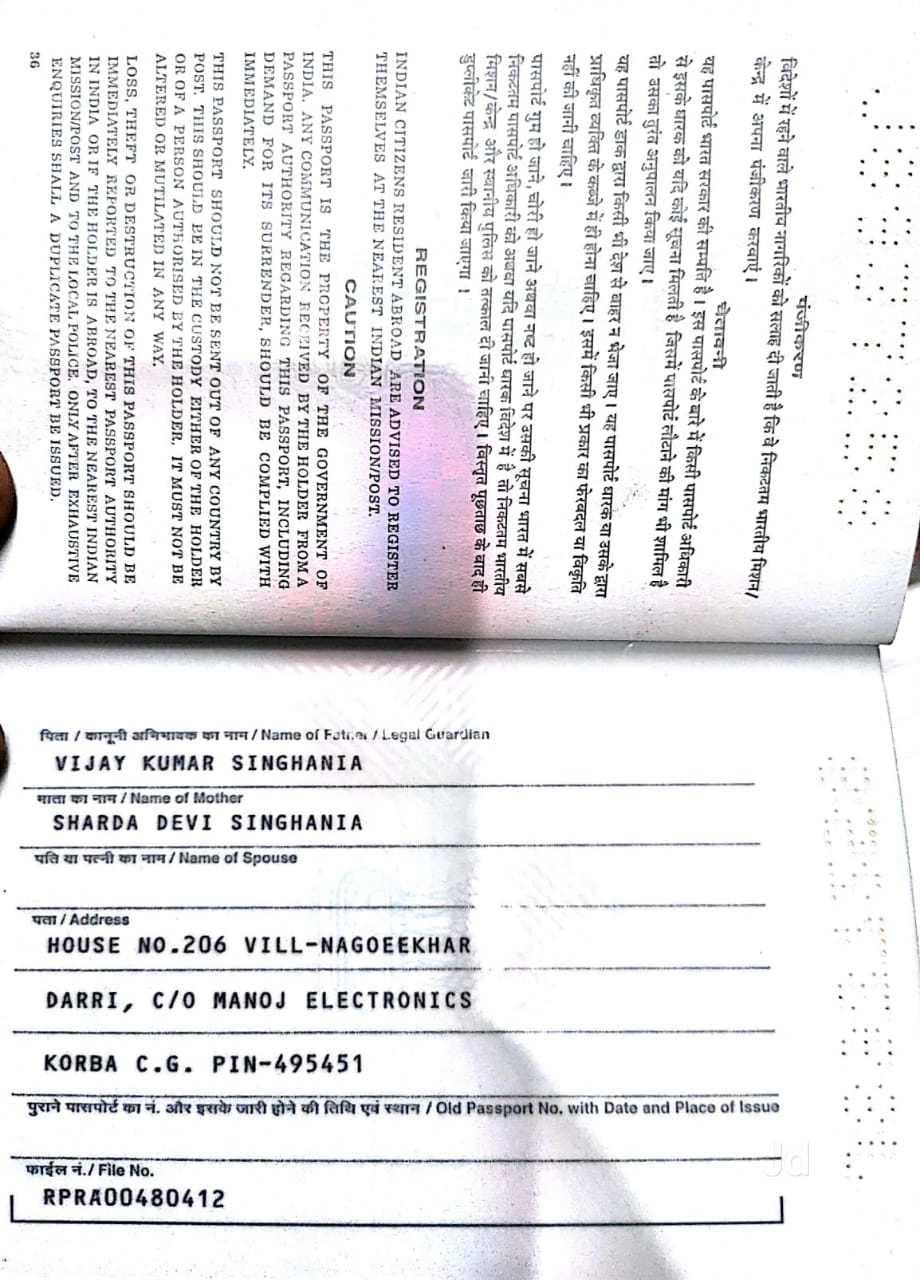File_no: (36, 1184, 237, 1217)
address: (38, 929, 495, 1095)
father_name: (35, 737, 411, 781)
mother_name: (38, 802, 387, 855)
